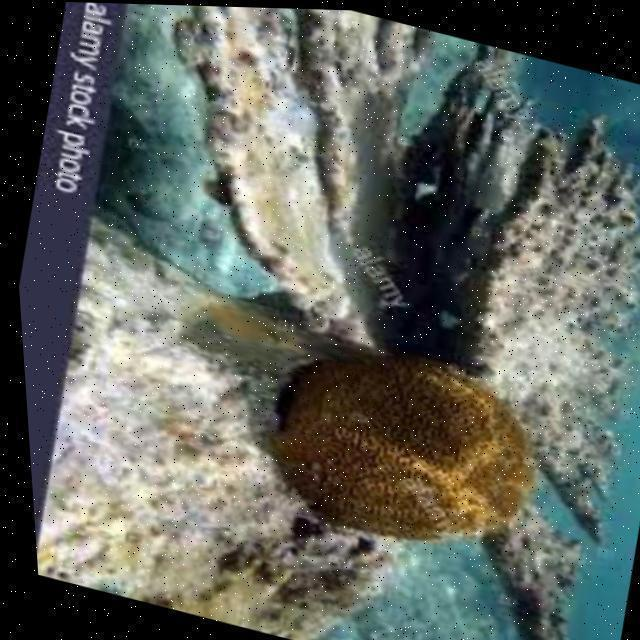Dead Coral: (160, 8, 640, 353)
